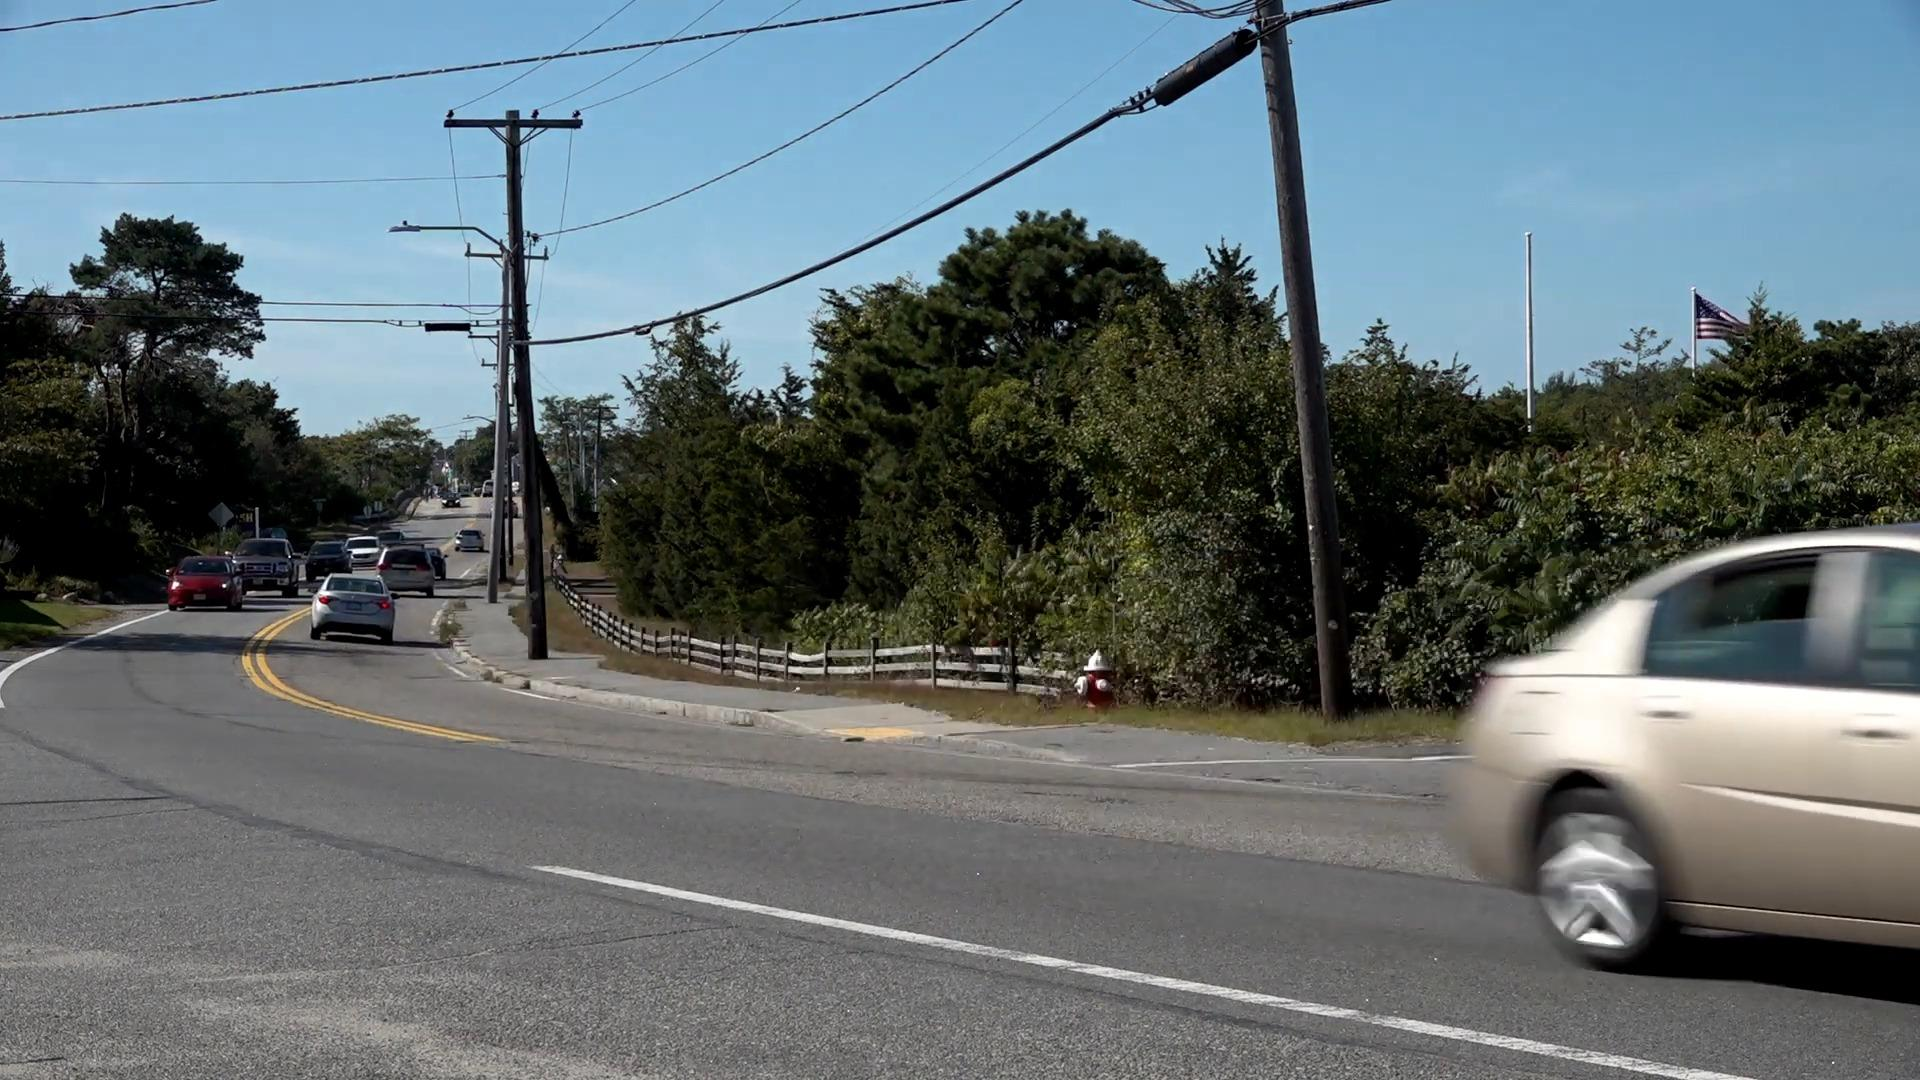sedans: (1442, 526, 1920, 1001), (311, 573, 398, 644), (170, 549, 242, 611)
